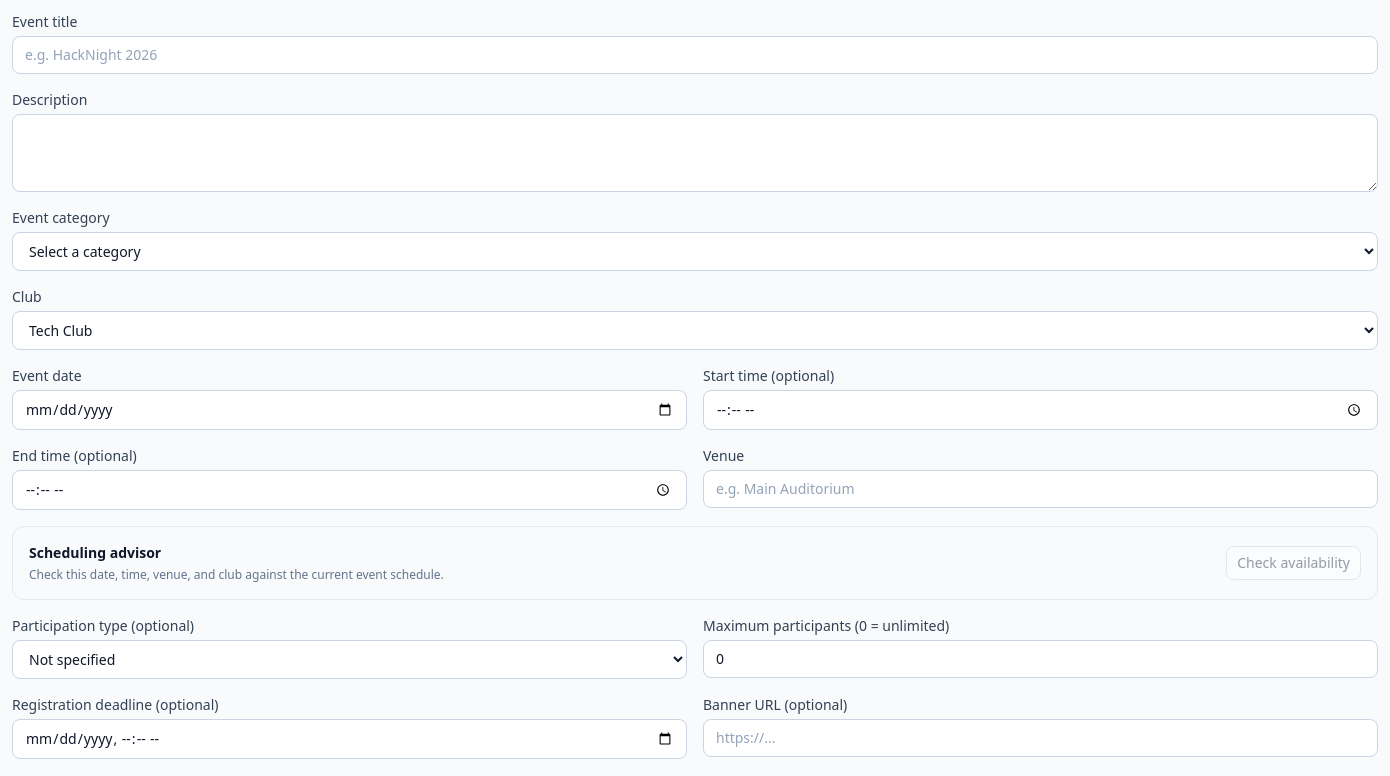
Scenario: EventForm scheduling advisor › shows the no-slot state
The image size is (1390, 776).
In the date field labelled "Event date": (350, 410) [12,390,687,430], type "2026-06-15"
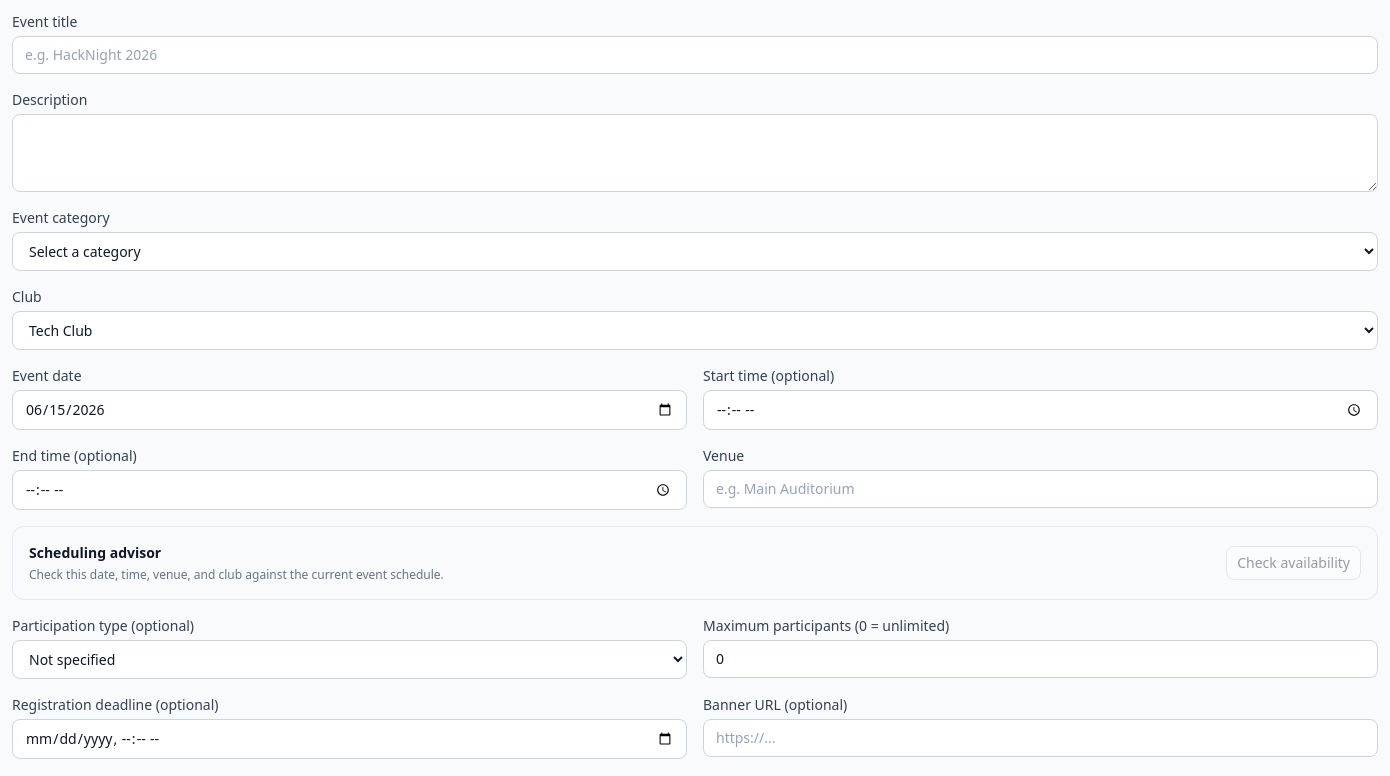
In the time field labelled "Start time (optional)": (1040, 410) [703,390,1378,430], type "10:00"
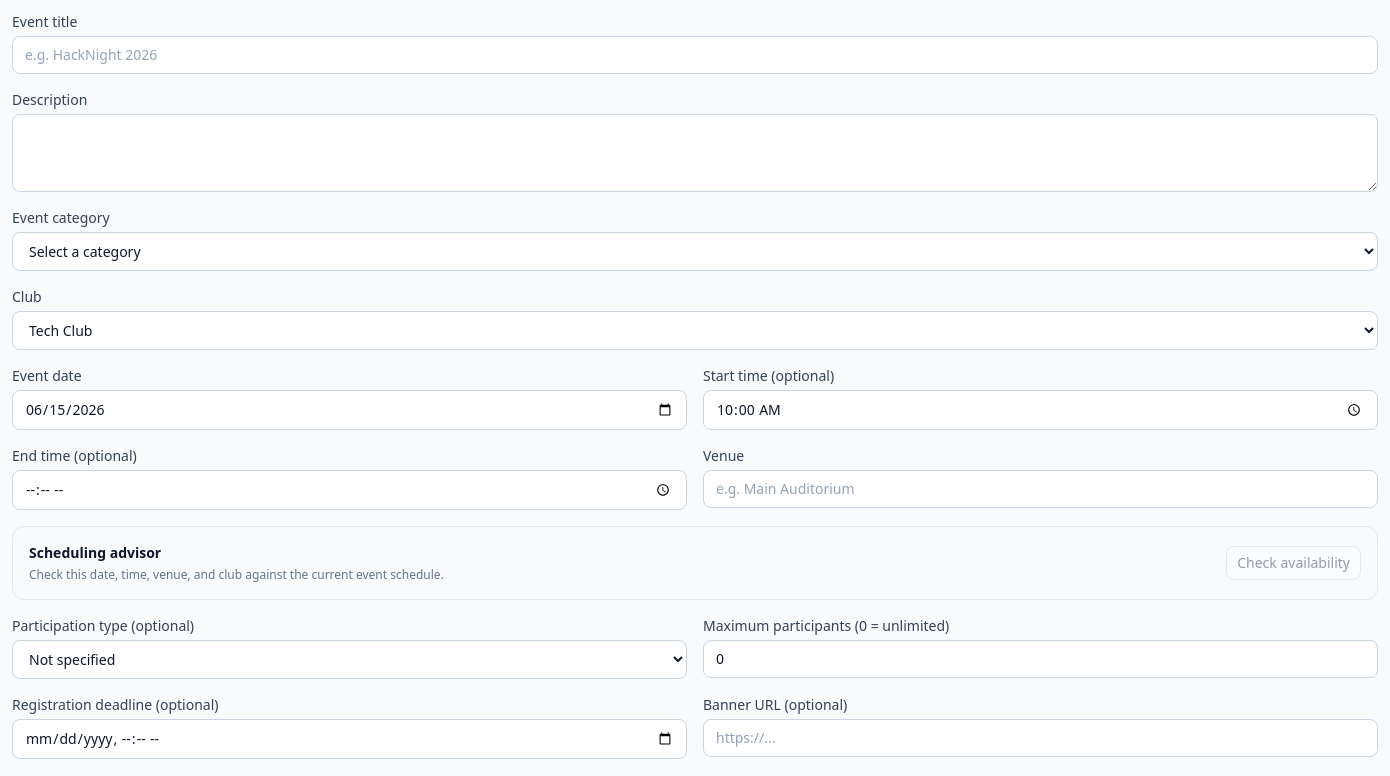
In the time field labelled "End time (optional)": (350, 490) [12,470,687,510], type "11:00"
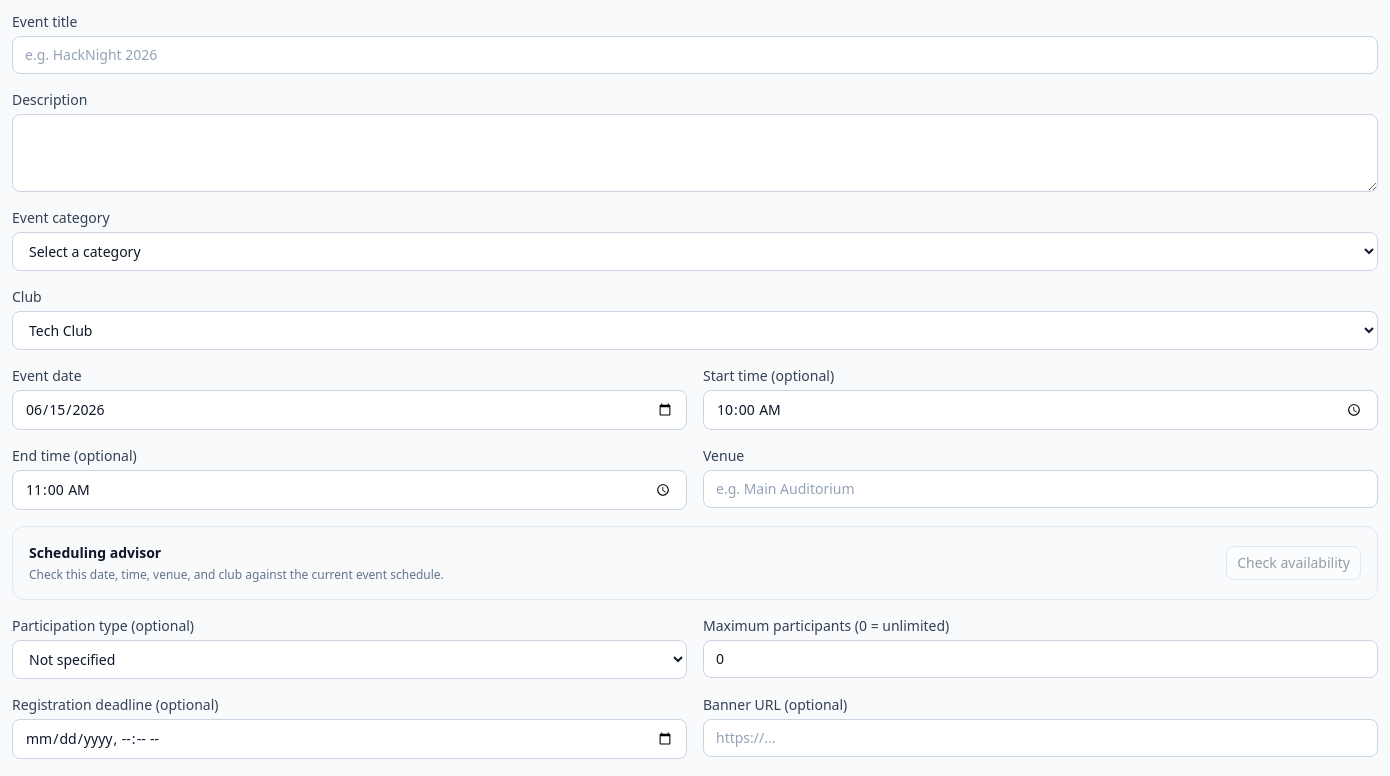
In the field labelled "Venue": (1040, 489) [703,470,1378,508], type "Main Hall"
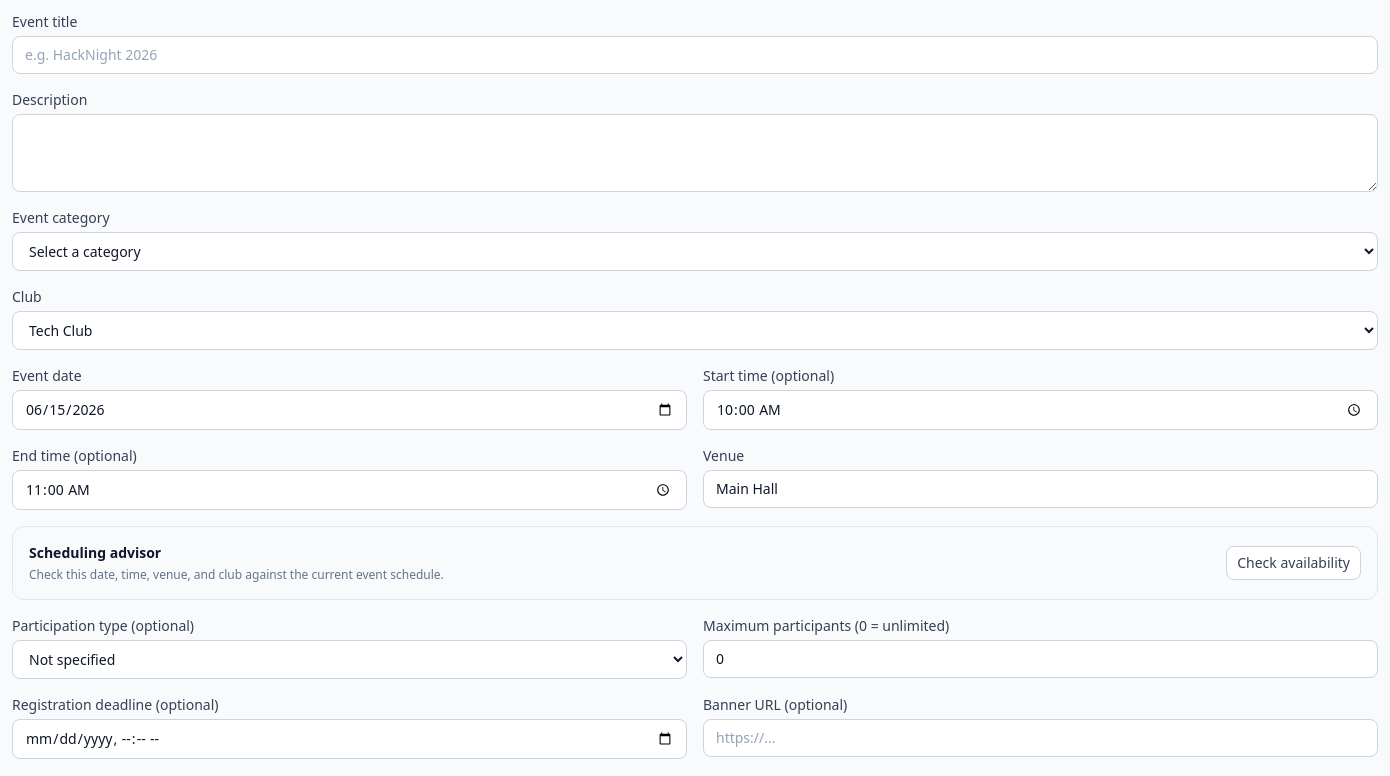
Click the button "Check availability": (1294, 563) [1226,546,1361,580]
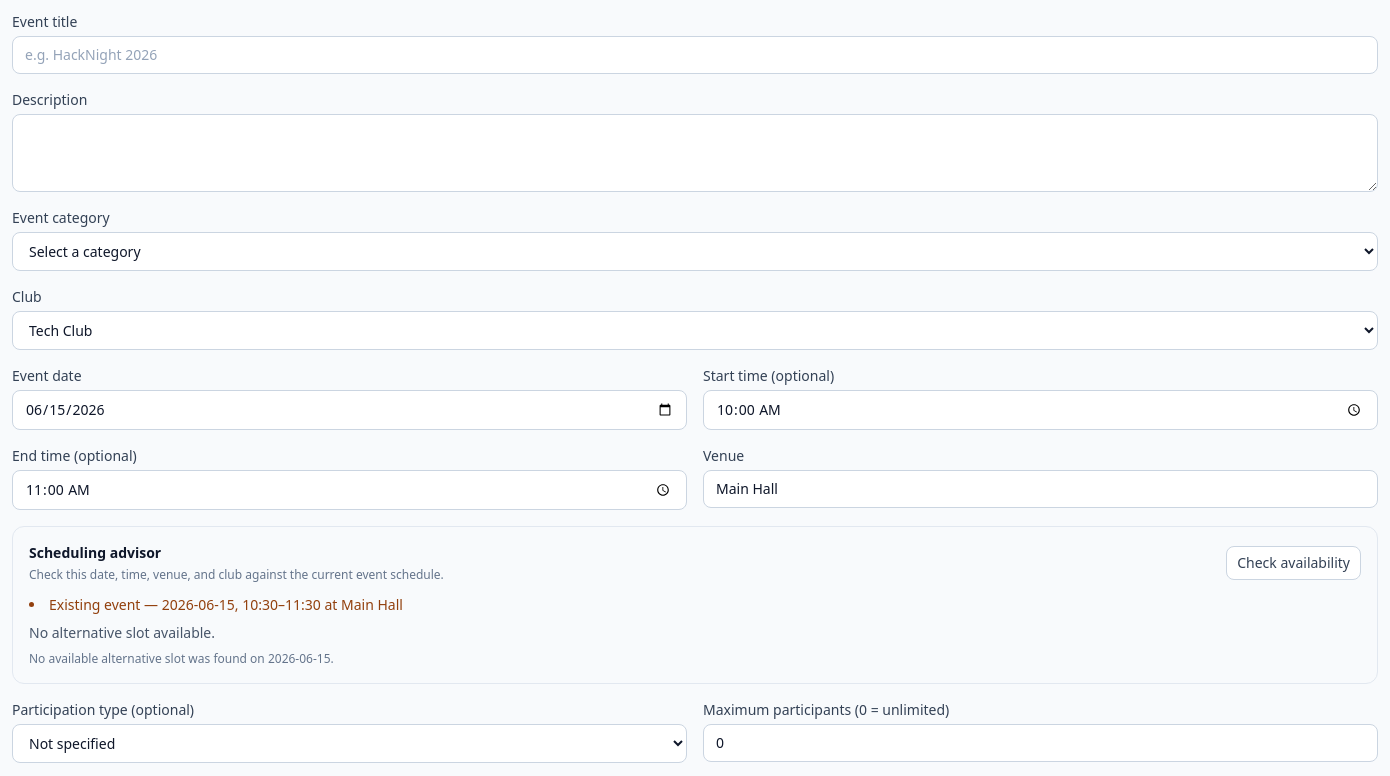
Expected: the text "No alternative slot available." is shown, [29,623,215,642]
